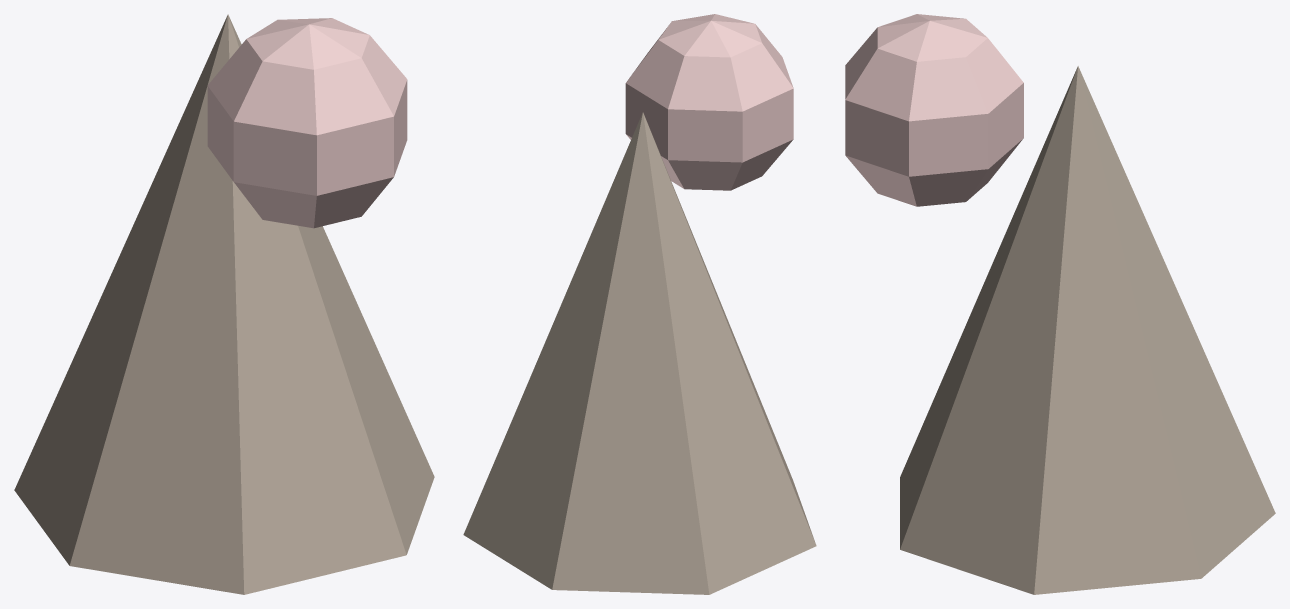
The picture shows the model from 3 angles, left to right: view 1: azimuth 30°, elevation 25°; view 2: azimuth 150°, elevation 25°; view 3: azimuth 270°, elevation 25°; orthographic projection. The views are drawn at different scales.
Parts seen in each view (by area): view 1: głowa; view 2: głowa; view 3: głowa.
Boxes of the visible parts, box(x1,y1,x2,y2) form: głowa: box(14, 14, 434, 594); głowa: box(463, 14, 816, 594); głowa: box(845, 14, 1275, 594).
Size of the model in its own units: 0.7799 by 1.1 by 0.8714.
